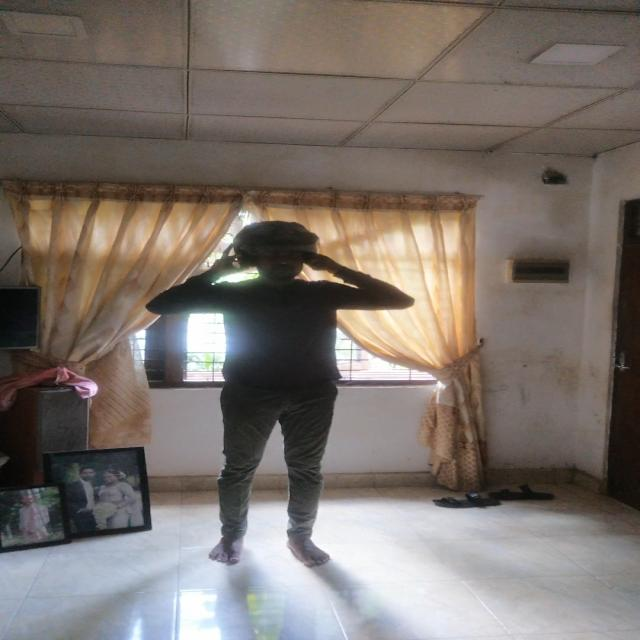Helmet_Wearer: (216, 224, 336, 288)
Person: (173, 218, 397, 566)
